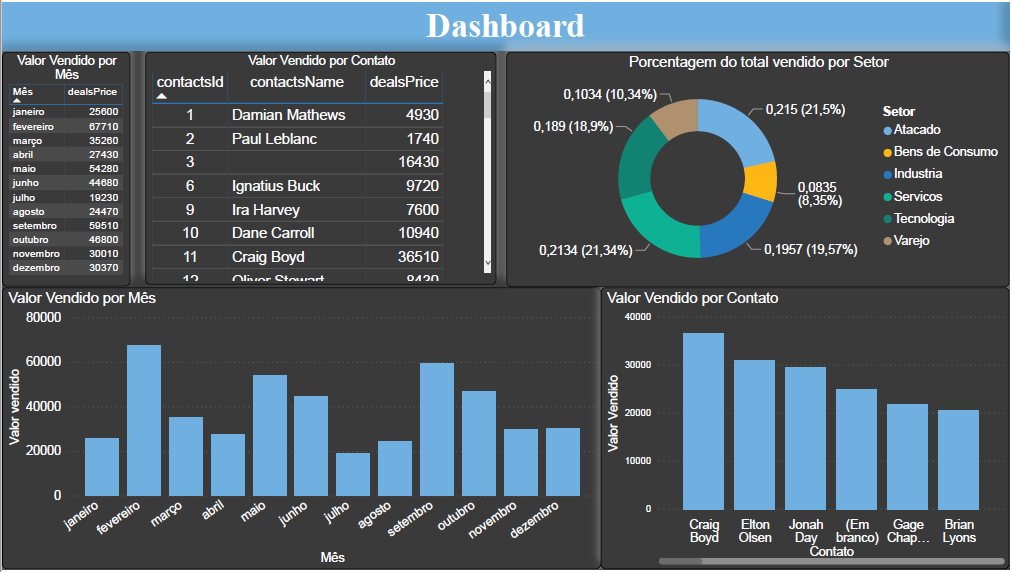

What the dashboard file says about the page in this screenshot:
{"tool":"powerbi","page":{"name":"Página 1","canvas":[1280,720],"ordinal":0},"visuals":[{"type":"tableEx","title":"Valor Vendido por Contato","fields":{"Values":["deals.contactsId","contacts.contactsName","deals.dealsPrice"]},"box":[182.1,62.1,446,296.4],"z":0},{"type":"tableEx","title":"Valor Vendido por Mês","fields":{"Values":["deals.dealsDateCreated.Variation.Hierarquia de datas.Mês","deals.dealsPrice"]},"box":[0,61.4,162.7,297.7],"z":1000},{"type":"clusteredColumnChart","title":"Valor Vendido por Mês","fields":{"Category":["deals.dealsDateCreated.Variation.Hierarquia de datas.Mês"],"Y":["deals.dealsPrice"]},"box":[0,361.3,760.7,358.5],"z":2000},{"type":"clusteredColumnChart","title":"Valor Vendido por Contato","fields":{"Y":["deals_original.dealsPrice"],"Category":["contacts.contactsName"]},"box":[760.7,361.3,519.3,358.5],"z":3000},{"type":"textbox","box":[0,0,1280,61.4],"z":4000},{"type":"donutChart","title":"Porcentagem do total vendido por Setor","fields":{"Category":["sectors.sector","data.sectorKey"],"Y":["data.%GT dealsPrice"]},"box":[640.7,62.1,639.3,299.2],"z":5000}]}

Visuals, with their boxes in screenshot pixels (x1, y1, x2, y2), scaled from the page's 1280x720 canvas onto the 1012x572 screenshot:
"Valor Vendido por Contato" tableEx: detection(144, 49, 497, 285)
"Valor Vendido por Mês" tableEx: detection(0, 49, 129, 285)
"Valor Vendido por Mês" clusteredColumnChart: detection(0, 287, 601, 571)
"Valor Vendido por Contato" clusteredColumnChart: detection(601, 287, 1011, 571)
textbox: detection(0, 0, 1011, 49)
"Porcentagem do total vendido por Setor" donutChart: detection(507, 49, 1011, 287)
